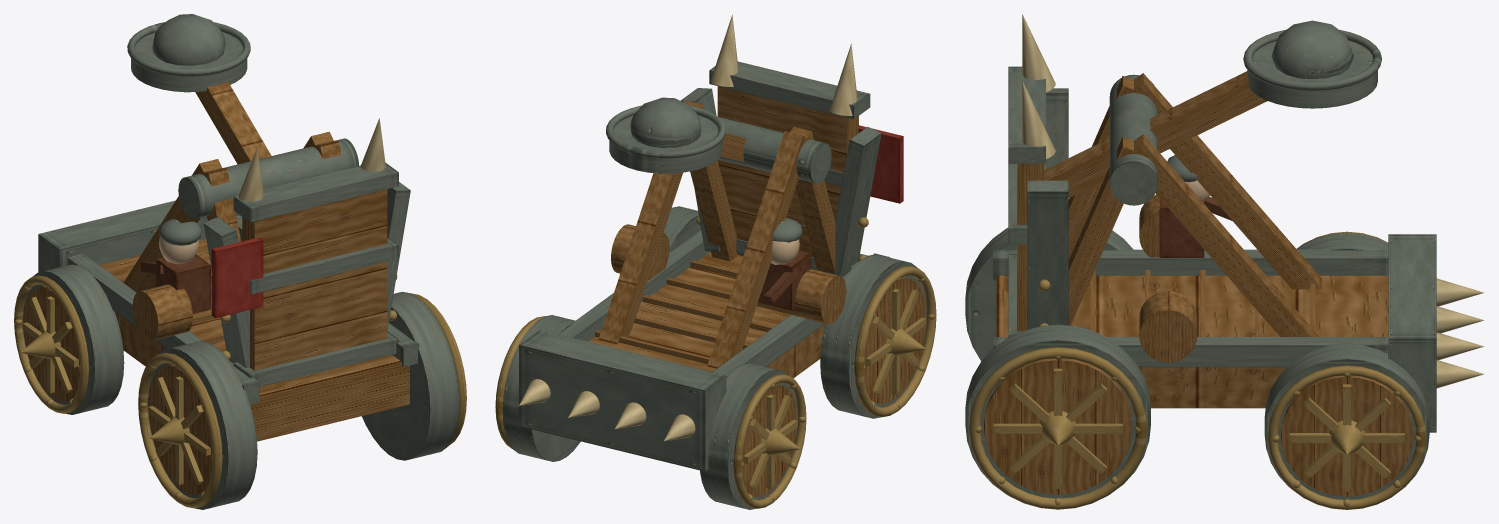
Rendered from demolisher.glb.
The picture shows the model from 3 angles, left to right: view 1: azimuth 30°, elevation 25°; view 2: azimuth 150°, elevation 25°; view 3: azimuth 270°, elevation 25°; orthographic projection. The views are drawn at different scales.
Parts seen in each view (by area): view 1: Wheel:1.35 (×2), object 18, Wheel:1.2, object 5, object 29, object 24, object 21, object 38, object 28, object 26, object 25, object 19 (+14 smaller); view 2: object 29, Wheel:1.2 (×2), Wheel:1.35 (×2), object 5, object 18, object 8, object 11, object 39, object 21, object 24, object 26, object 28 (+24 smaller); view 3: Wheel:1.35 (×2), Wheel:1.2 (×2), object 5, object 29, object 11, object 8, object 25, object 44, object 6, object 9, object 24, object 26 (+18 smaller).
Part boxes in pixels (left/top/right/bottom): Wheel:1.35 (×2): left=138, top=291, right=466, bottom=509; object 18: left=242, top=189, right=387, bottom=370; Wheel:1.2: left=14, top=264, right=124, bottom=414; object 5: left=99, top=239, right=409, bottom=441; object 29: left=38, top=200, right=239, bottom=272; object 24: left=178, top=138, right=358, bottom=219; object 21: left=233, top=162, right=398, bottom=222; object 38: left=211, top=237, right=263, bottom=318; object 28: left=152, top=14, right=225, bottom=65; object 26: left=131, top=32, right=247, bottom=92; object 25: left=195, top=82, right=271, bottom=164; object 19: left=233, top=331, right=398, bottom=386; object 29: left=519, top=330, right=726, bottom=471; Wheel:1.2 (×2): left=495, top=315, right=806, bottom=509; Wheel:1.35 (×2): left=663, top=206, right=936, bottom=418; object 5: left=588, top=252, right=824, bottom=378; object 18: left=717, top=86, right=858, bottom=257; object 8: left=707, top=131, right=808, bottom=368; object 11: left=598, top=172, right=682, bottom=344; object 39: left=826, top=126, right=881, bottom=276; object 21: left=709, top=61, right=870, bottom=119; object 24: left=718, top=117, right=831, bottom=183; object 26: left=609, top=115, right=722, bottom=173; object 28: left=630, top=97, right=701, bottom=147; Wheel:1.35 (×2): left=965, top=227, right=1150, bottom=509; Wheel:1.2 (×2): left=1264, top=231, right=1429, bottom=509; object 5: left=996, top=275, right=1388, bottom=408; object 29: left=1388, top=234, right=1436, bottom=432; object 11: left=1130, top=134, right=1319, bottom=336; object 8: left=1129, top=73, right=1321, bottom=289; object 25: left=1044, top=71, right=1267, bottom=197; object 44: left=1027, top=180, right=1068, bottom=329; object 6: left=993, top=249, right=1388, bottom=280; object 9: left=993, top=337, right=1388, bottom=367; object 24: left=1109, top=74, right=1157, bottom=205; object 26: left=1247, top=41, right=1377, bottom=108.
Bounding box in the file's own units: 5.8 × 6.75 × 7.55.
25 materials, 23 textured.
